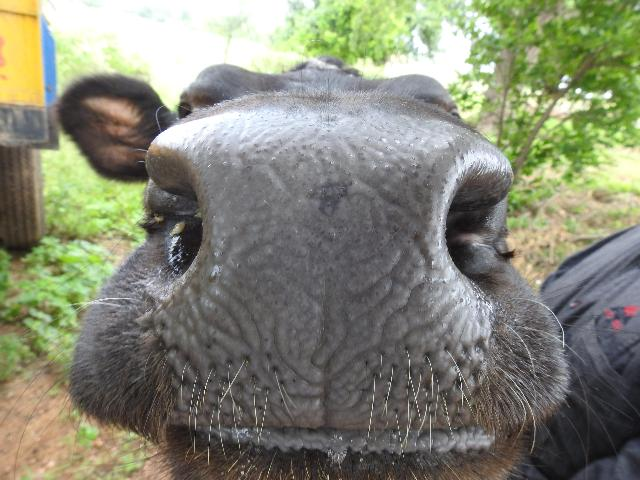Muzzle: (208, 125, 452, 403)
